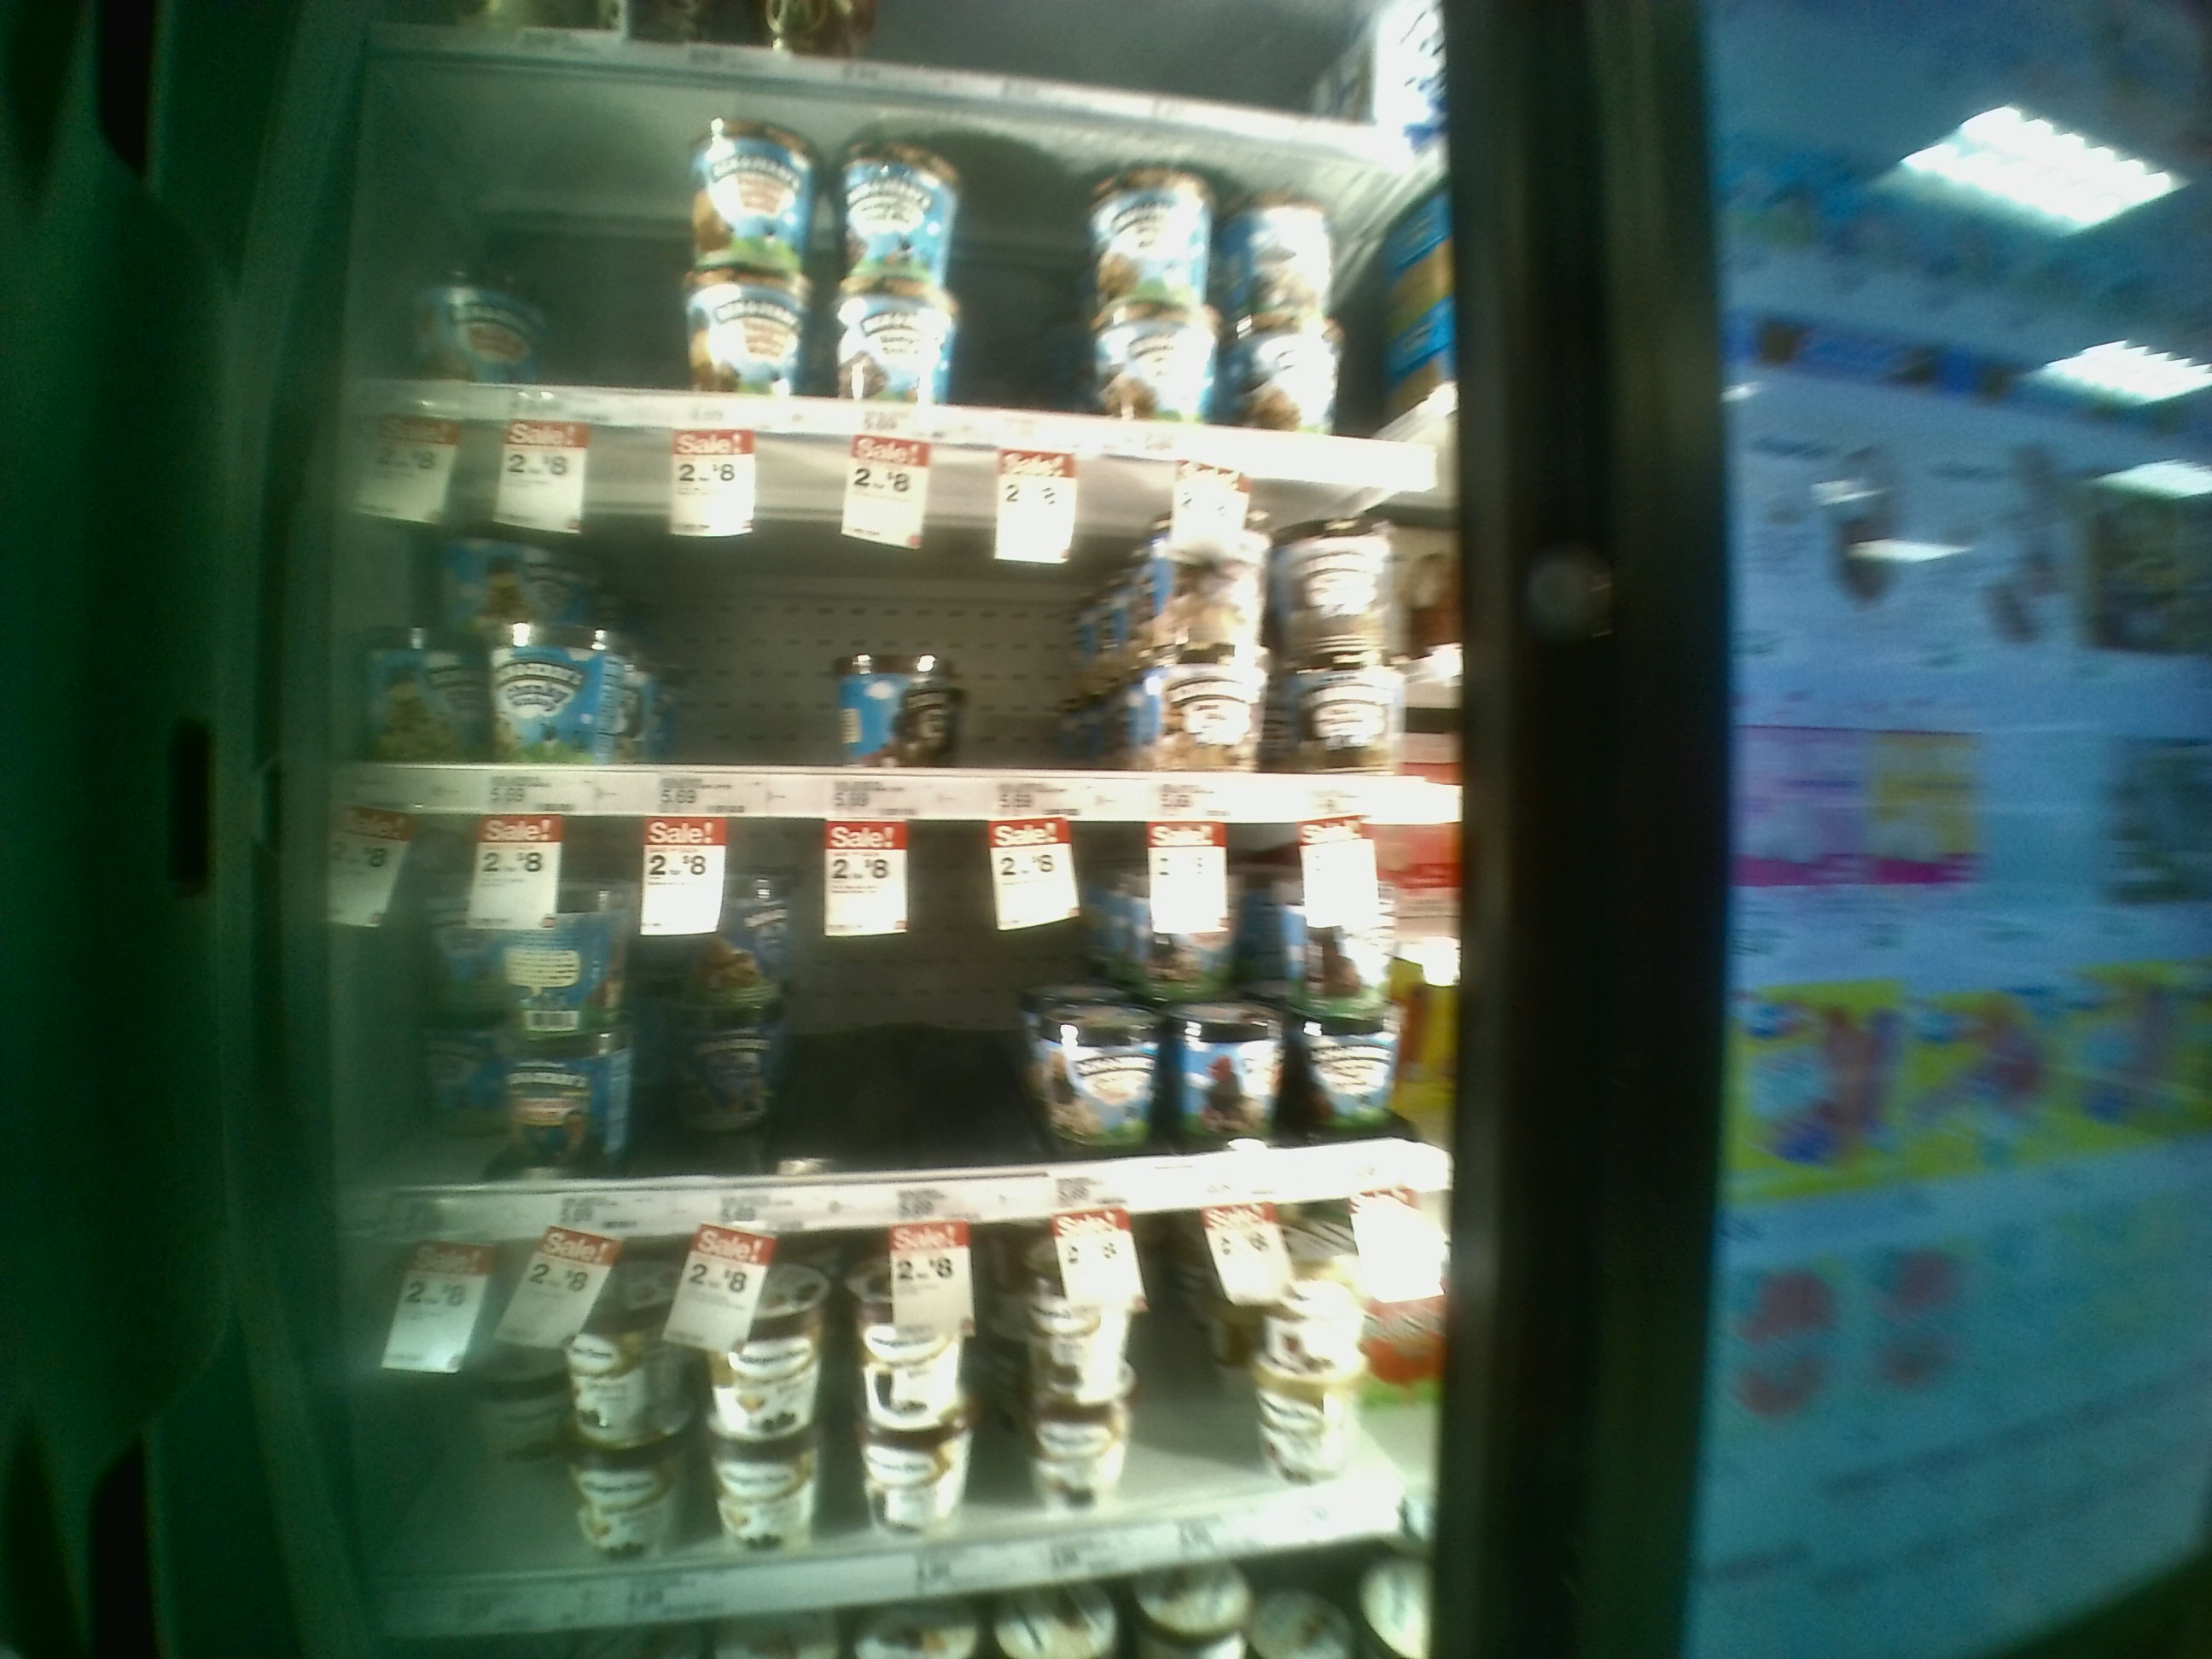shelf: (340, 817, 1460, 1236), (334, 413, 1474, 819)
